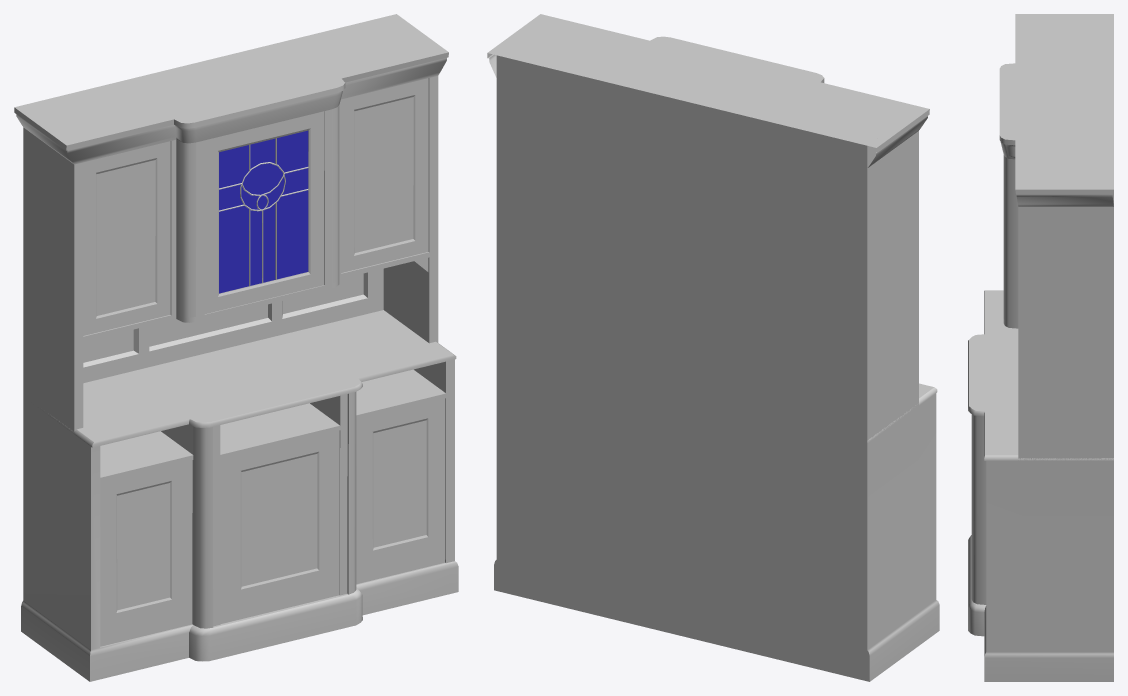
Rendered from SM_Servant.fbx.
3 renders of one model, left to right at view 1: azimuth 30°, elevation 25°; view 2: azimuth 150°, elevation 25°; view 3: azimuth 270°, elevation 25°, orthographic. The views are drawn at different scales.
Parts seen in each view (by area): view 1: SM_Servant; view 2: SM_Servant; view 3: SM_Servant.
Part boxes in pixels (x1=…): SM_Servant: x1=14, y1=14, x2=458, y2=681; SM_Servant: x1=487, y1=14, x2=939, y2=681; SM_Servant: x1=968, y1=14, x2=1113, y2=681.
Size of the model in its own units: 170 by 223 by 59.49.
